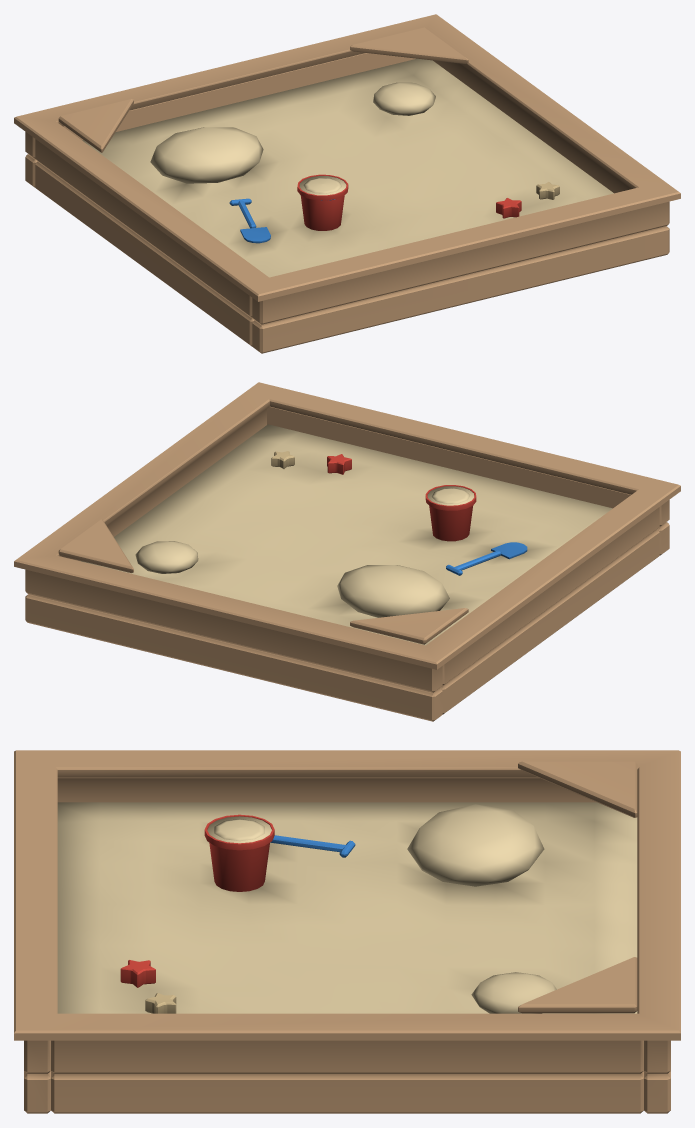
File: sandbox.glb
3 views of the same model, one above another, from view 1: azimuth 30°, elevation 25°; view 2: azimuth 150°, elevation 25°; view 3: azimuth 270°, elevation 25° (orthographic). The views are drawn at different scales.
Visible parts, largest first — view 1: sandbox; view 2: sandbox; view 3: sandbox.
Part boxes in pixels (x1,y1,x2,y2): sandbox: [14, 14, 680, 353]; sandbox: [14, 382, 680, 721]; sandbox: [14, 750, 680, 1113].
Size of the model in its own units: 1.98 by 0.3535 by 1.98.
